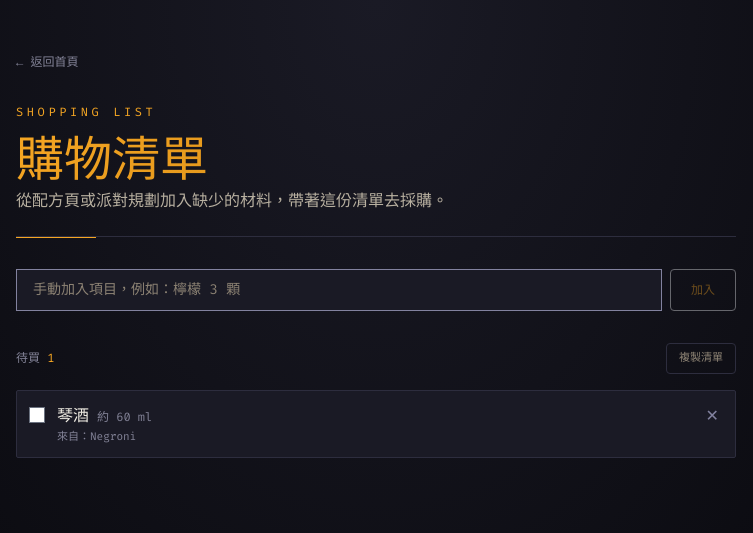
Test case: 購物清單 › 輸入後「加入」可用且真的加入項目
Type "冰塊" into the field named "新增項目" at (339, 290), box [16,269,662,311]
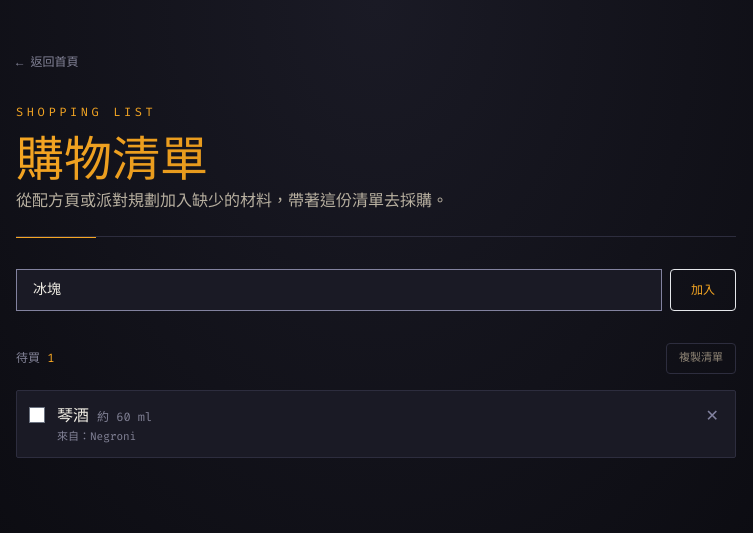
Result: the button "加入" is enabled
Click the button "加入" at (703, 290), box [670,269,736,311]
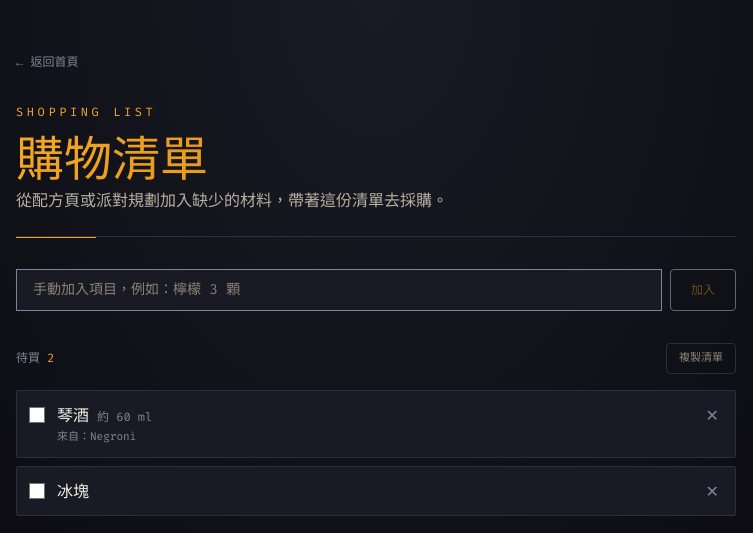
Result: the text "冰塊" is shown at [57,481,89,501]
